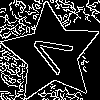V: (27, 28, 82, 80)
